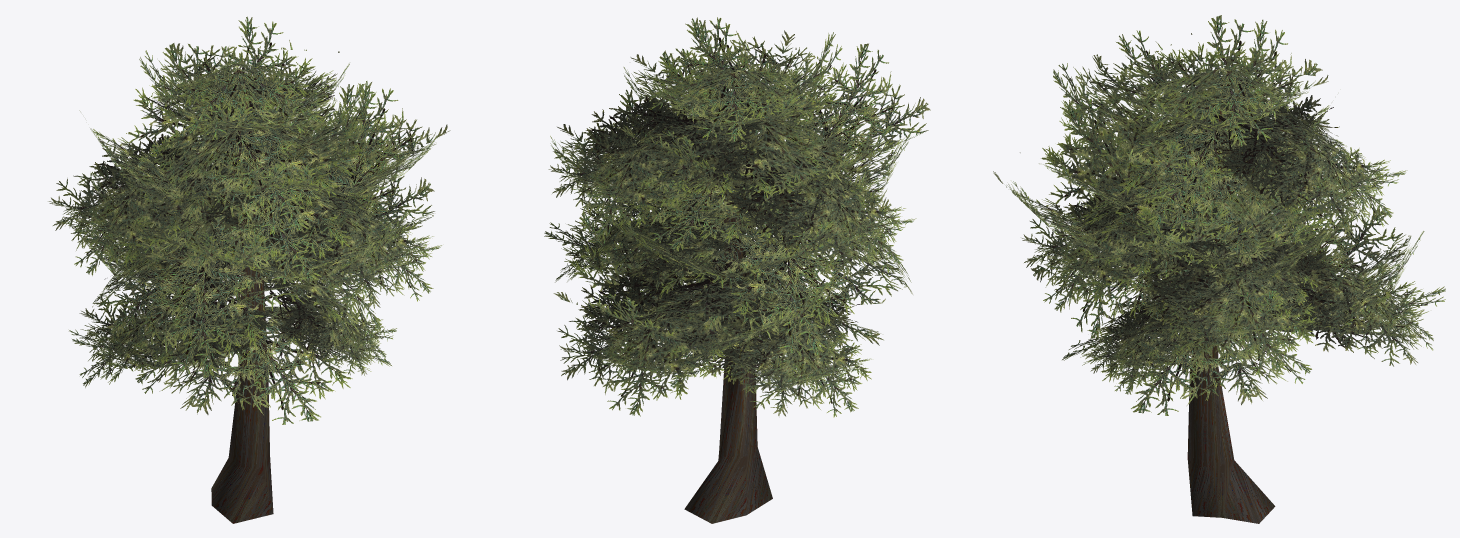
File: juniper_v2.glb
3 renders of one model, left to right at view 1: azimuth 30°, elevation 25°; view 2: azimuth 150°, elevation 25°; view 3: azimuth 270°, elevation 25°, orthographic.
Parts seen in each view (by area): view 1: juniper_prickly; view 2: juniper_prickly; view 3: juniper_prickly.
Part boxes in pixels (x1,y1,x2,y2): juniper_prickly: (48,16,450,523); juniper_prickly: (544,17,930,523); juniper_prickly: (993,15,1445,523).
Bounding box in the file's own units: 10.73 × 12.58 × 11.63.
Materials: 1 (1 with a texture image).
